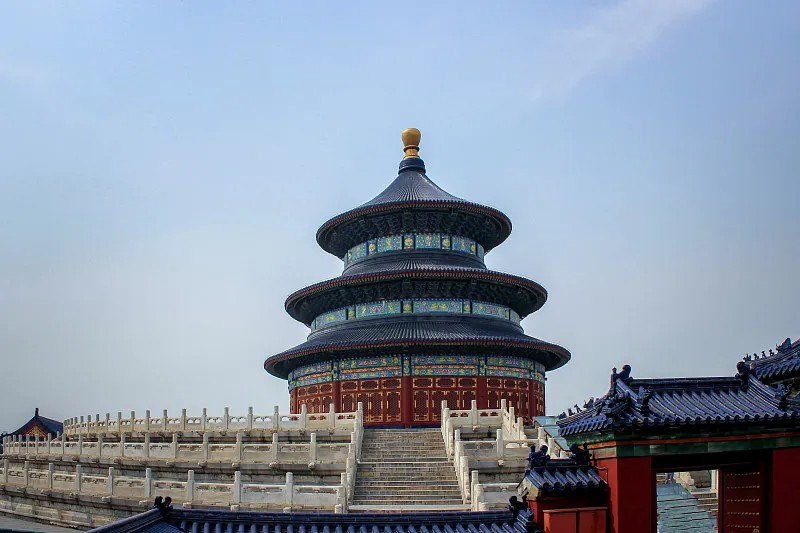Heaven: (262, 128, 572, 431)
